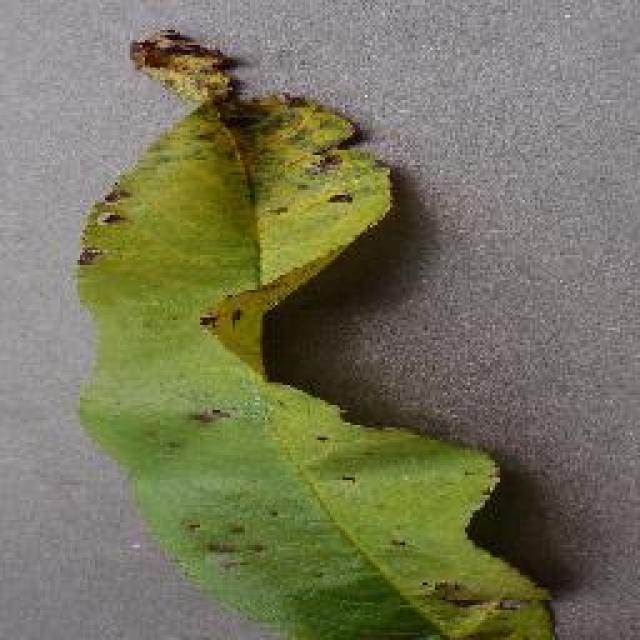Peach_Bacterial_Spot: (87, 8, 475, 610)
